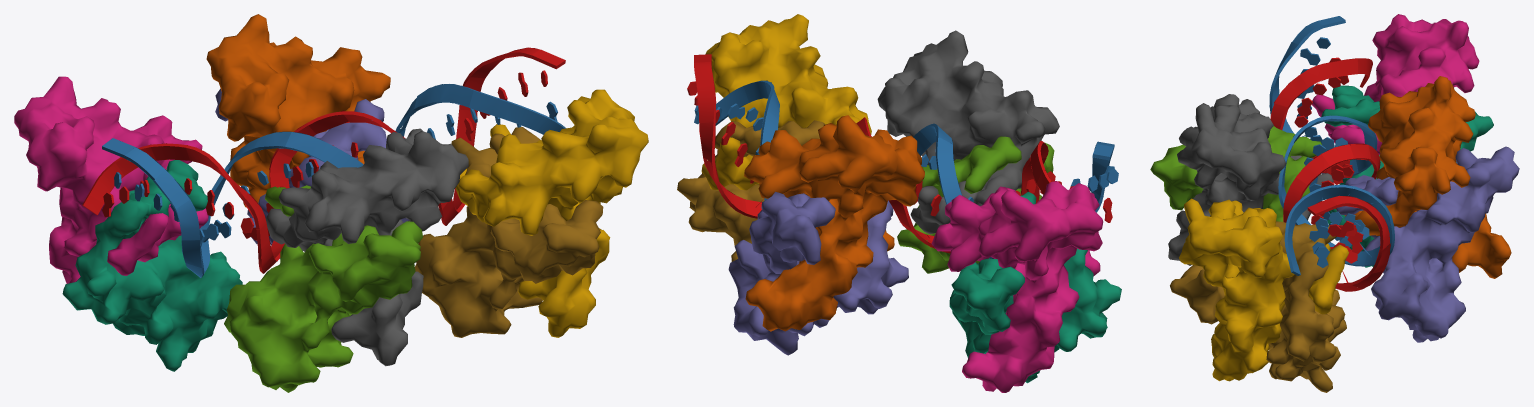
The model's file is 4QPQ_lores.glb.
3 renders of one model, left to right at view 1: azimuth 30°, elevation 25°; view 2: azimuth 150°, elevation 25°; view 3: azimuth 270°, elevation 25°, orthographic. The views are drawn at different scales.
Visible parts, largest first — view 1: Mesh_11; view 2: Mesh_11; view 3: Mesh_11.
Part boxes in pixels (box(x1,y1,x2,y2)): Mesh_11: box(14, 14, 648, 392); Mesh_11: box(677, 14, 1121, 392); Mesh_11: box(1150, 14, 1519, 392).
Bounding box in the file's own units: 97.85 × 54.09 × 72.1.
